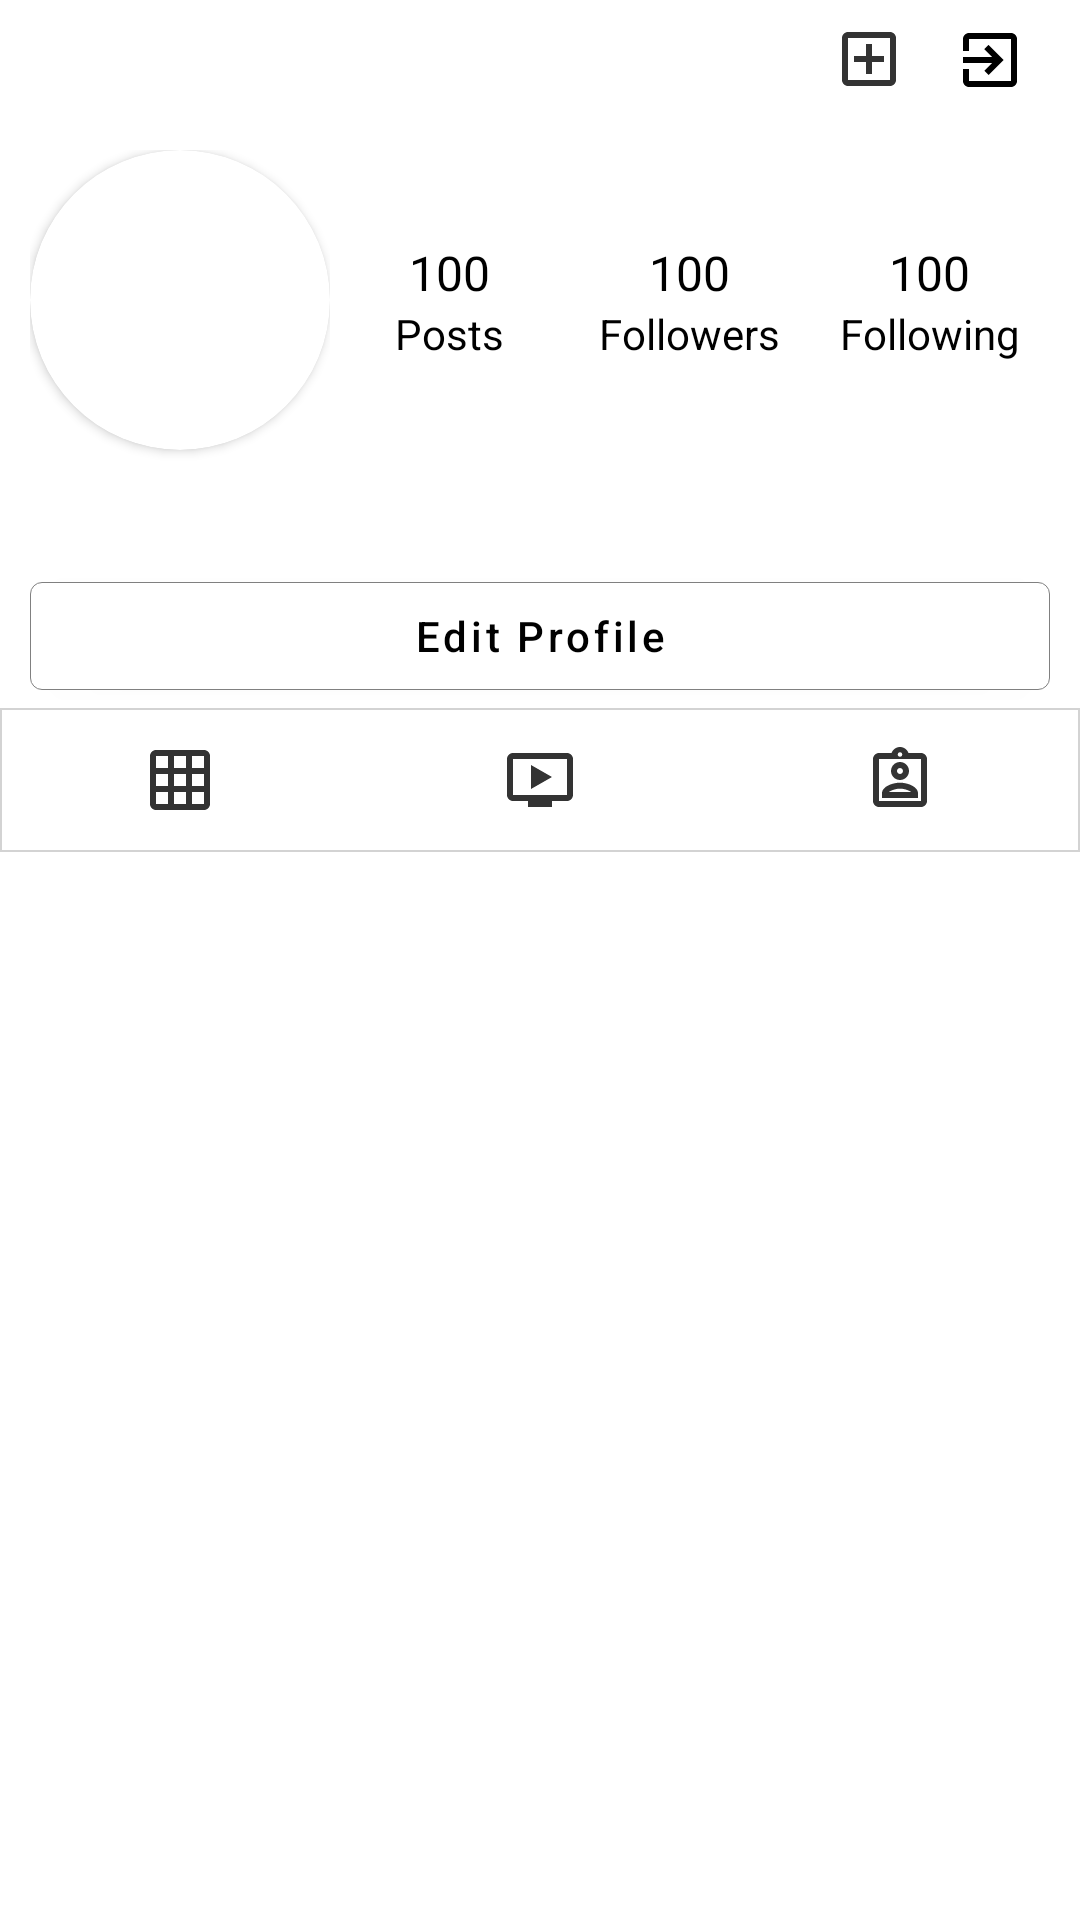

Screen size 1080 x 1920. Icon name, then its box in pixels as (x1, y1, x2, y2):
add: (842, 32, 896, 86)
exit: (963, 33, 1017, 87)
grid: (150, 750, 210, 810)
tag: (873, 747, 927, 807)
video: (507, 753, 573, 807)
